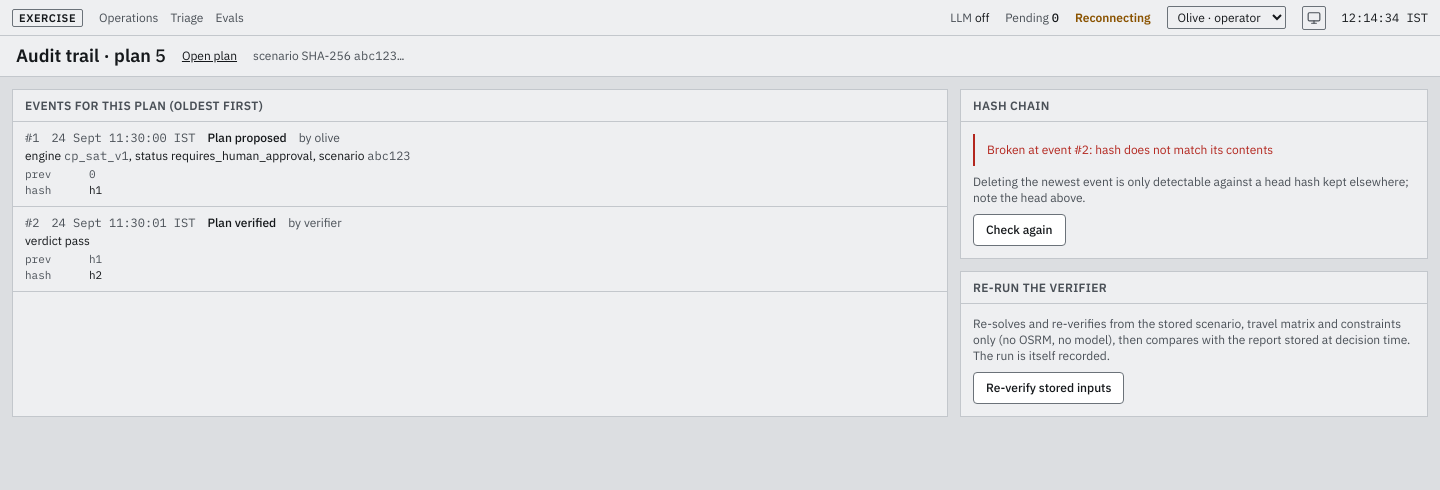
it: audit › shows a broken chain link and a re-verification that differs from the stored report
This screenshot has width=1440, height=490.
expect the text "Broken at event #2: hash does not match its contents" is shown: met, box x1=973 y1=134 x2=1415 y2=166
Click the button "Re-verify stored inputs": point(1049, 388) x1=973 y1=372 x2=1124 y2=404
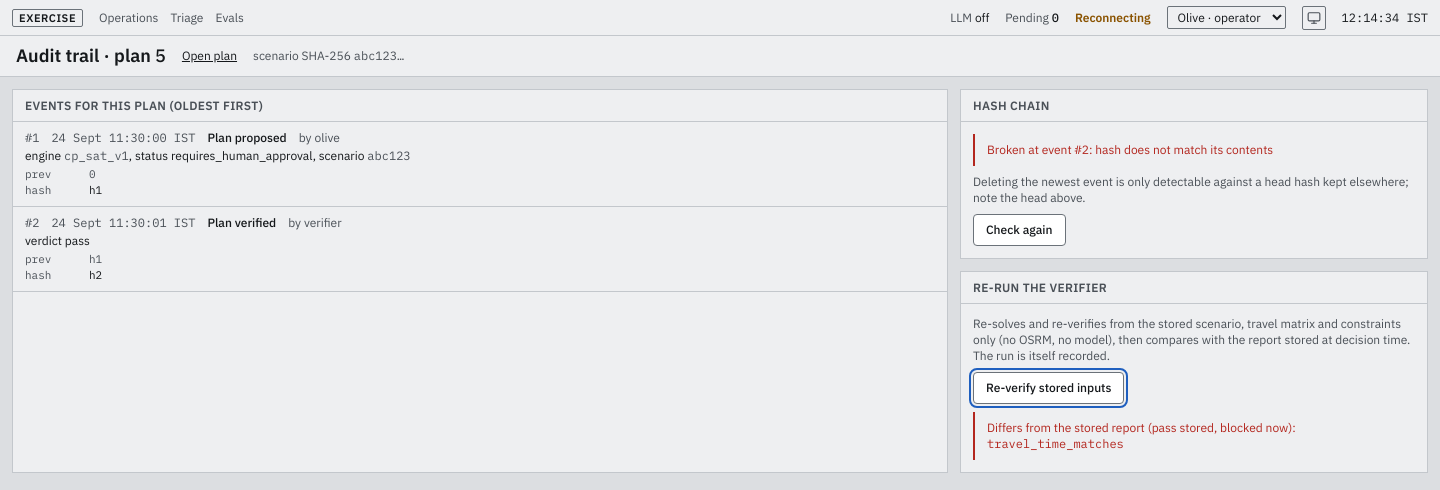
expect the text "Differs from the stored report" shows "travel_time_matches": met, box x1=987 y1=436 x2=1124 y2=451
